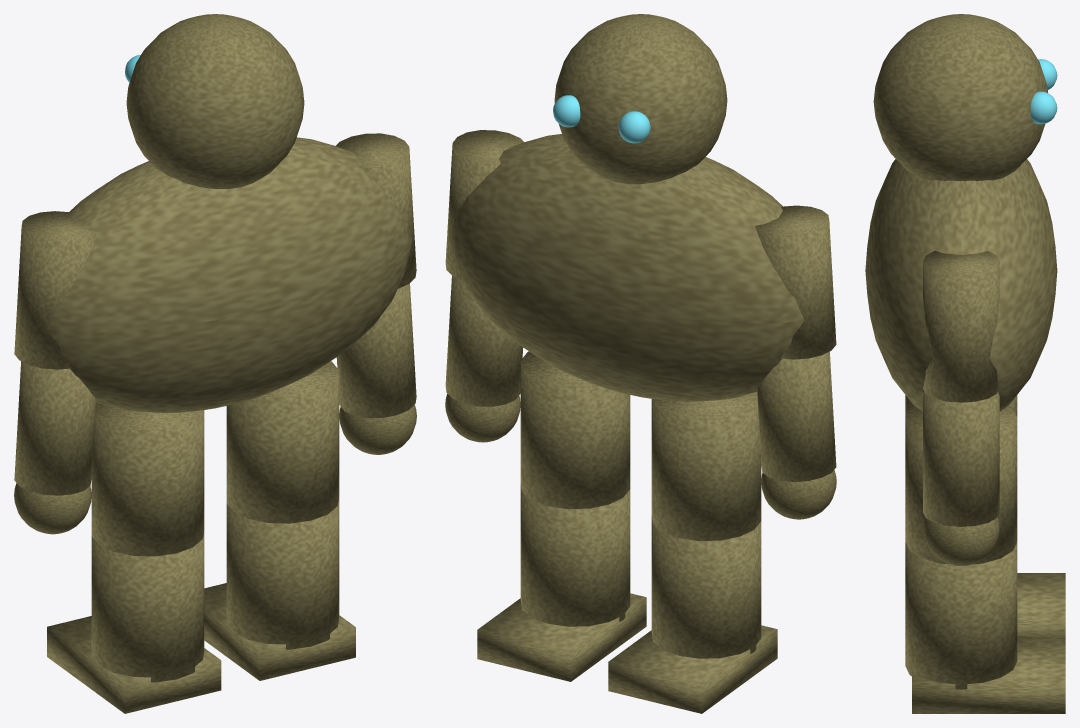
The model's file is titan.glb.
The picture shows the model from 3 angles, left to right: view 1: azimuth 30°, elevation 25°; view 2: azimuth 150°, elevation 25°; view 3: azimuth 270°, elevation 25°; orthographic projection. The views are drawn at different scales.
Parts seen in each view (by area): view 1: Torso, Head, ThighL, ThighR, ShinR, ShinL, ForearmL, UpperArmL, ForearmR, FootL, FootR, UpperArmR (+2 smaller); view 2: Torso, Head, ThighL, ThighR, ShinL, ShinR, ForearmL, FootR, FootL, UpperArmL, ForearmR, UpperArmR (+4 smaller); view 3: Torso, Head, ShinR, UpperArmR, ForearmR, FootR, ThighR, FootL, HandR, Eye.001, Eye.
Boxes of the visible parts, box(x1,y1,x2,y2) form: Torso: box(47, 137, 412, 412); Head: box(126, 14, 304, 188); ThighL: box(91, 403, 204, 556); ThighR: box(226, 361, 339, 523); ShinR: box(226, 497, 339, 649); ShinL: box(91, 531, 204, 682); ForearmL: box(14, 361, 95, 495); UpperArmL: box(14, 211, 97, 369); ForearmR: box(336, 283, 416, 418); FootL: box(47, 616, 221, 713); FootR: box(204, 583, 355, 680); UpperArmR: box(336, 133, 416, 288); Torso: box(449, 134, 804, 401); Head: box(554, 14, 727, 184); ThighL: box(651, 392, 761, 540); ThighR: box(520, 351, 630, 509); ShinL: box(651, 515, 761, 658); ShinR: box(520, 484, 630, 626); ForearmL: box(757, 351, 836, 481); FootR: box(477, 593, 646, 681); FootL: box(608, 625, 777, 713); UpperArmL: box(755, 205, 836, 359); ForearmR: box(445, 276, 523, 406); UpperArmR: box(445, 130, 523, 280); Torso: box(865, 159, 1057, 411); Head: box(873, 14, 1047, 180); ShinR: box(905, 542, 1017, 689); UpperArmR: box(923, 251, 999, 402); ForearmR: box(923, 392, 999, 526); FootR: box(912, 637, 1065, 713); ThighR: box(905, 405, 1017, 564); FootL: box(1017, 573, 1065, 637); HandR: box(923, 517, 999, 566); Eye.001: box(1030, 91, 1057, 124); Eye: box(1038, 59, 1057, 89).
Bounding box in the file's own units: 0.6367 × 1 × 0.2852.
3 materials, 2 textured.
